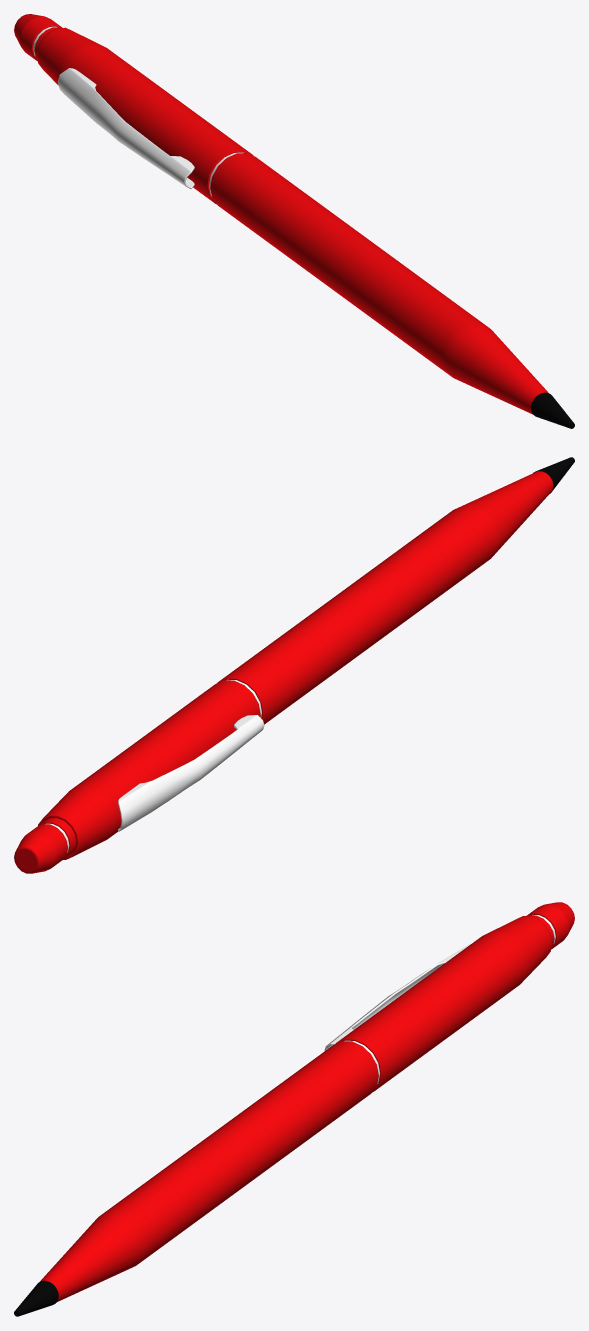
Rendered from stift_FUNKY.fbx.
3 renders of one model, top to bottom at view 1: azimuth 30°, elevation 25°; view 2: azimuth 150°, elevation 25°; view 3: azimuth 330°, elevation 25°, orthographic.
Visible parts, largest first — view 1: retractable-metallic-pen, Cone; view 2: retractable-metallic-pen; view 3: retractable-metallic-pen, Cone.
Part boxes in pixels (bbox=[...]): retractable-metallic-pen: bbox=[14, 14, 548, 414]; Cone: bbox=[531, 392, 574, 428]; retractable-metallic-pen: bbox=[14, 471, 553, 873]; retractable-metallic-pen: bbox=[40, 902, 574, 1301]; Cone: bbox=[14, 1280, 58, 1316].
Bounding box in the file's own units: 0.8953 × 0.6936 × 12.26.
